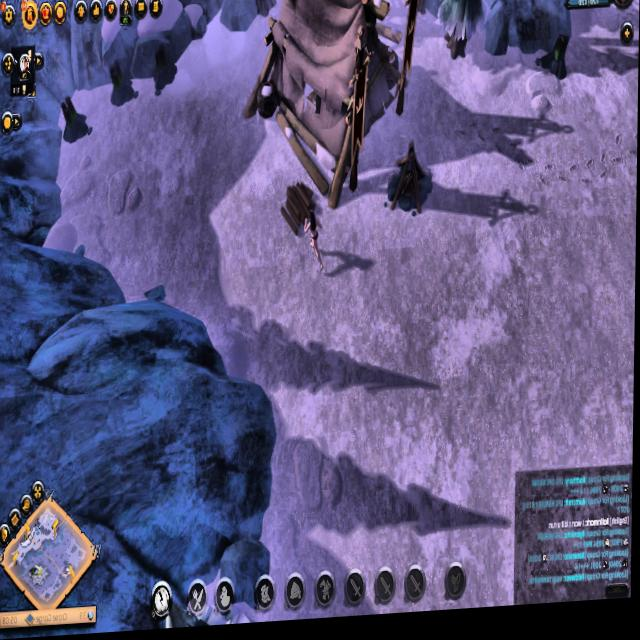tin_ore: (538, 33, 573, 89), (57, 95, 91, 146), (149, 43, 179, 100), (106, 56, 136, 108)
